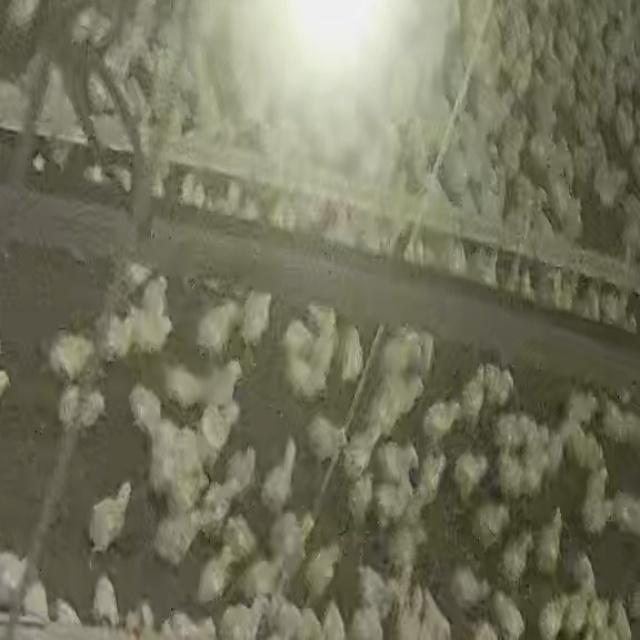chicken: (88, 479, 130, 556)
